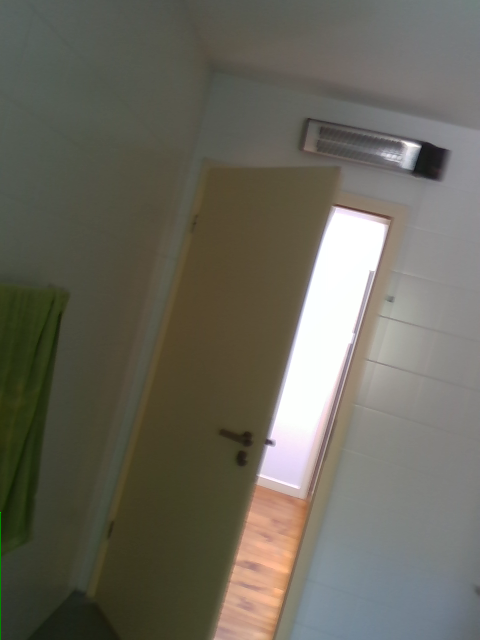semi: (87, 155, 411, 639)
